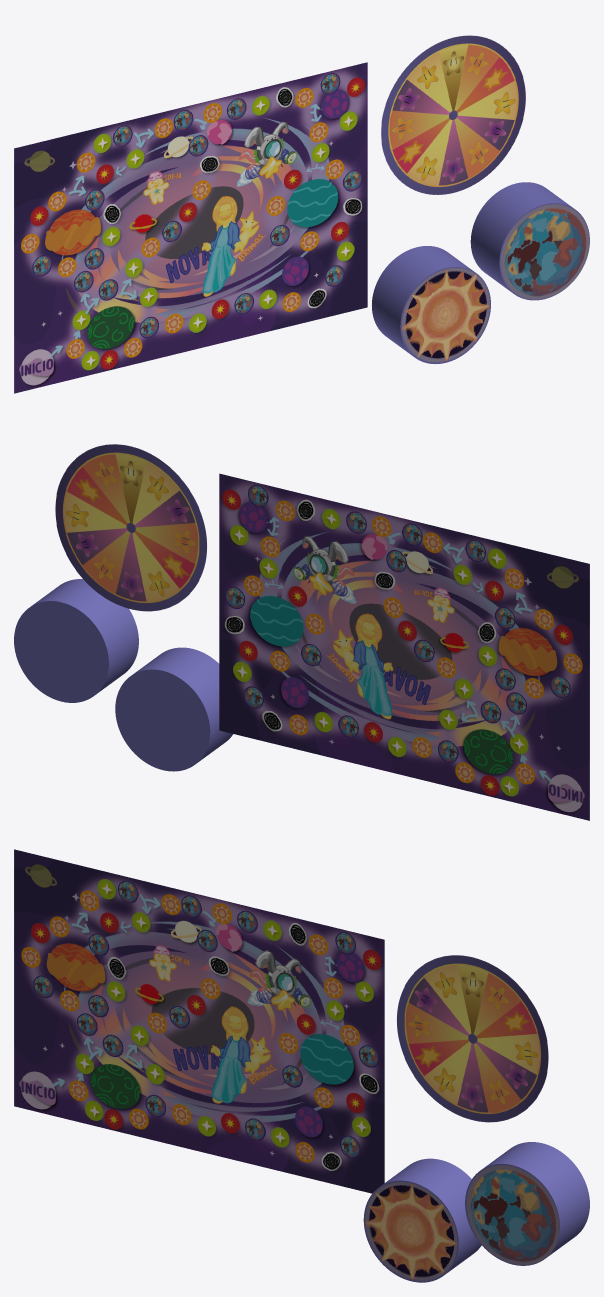
Rendered from juegoMesa.glb.
3 renders of one model, top to bottom at view 1: azimuth 30°, elevation 25°; view 2: azimuth 150°, elevation 25°; view 3: azimuth 330°, elevation 25°, orthographic. The views are drawn at different scales.
Visible parts, largest first — view 1: mesh_id47, mesh_id50, mesh_id41, mesh_id27; view 2: mesh_id47, mesh_id50, mesh_id41, mesh_id27; view 3: mesh_id47, mesh_id50, mesh_id41, mesh_id27.
Boxes of the visible parts, x1,y1,x2,y2 form: mesh_id47: (14,62,367,393); mesh_id50: (381,35,525,194); mesh_id41: (470,182,589,300); mesh_id27: (372,246,490,364); mesh_id47: (219,473,589,820); mesh_id50: (55,444,206,611); mesh_id41: (14,579,138,702); mesh_id27: (115,647,232,771); mesh_id47: (14,849,384,1193); mesh_id50: (397,955,548,1122); mesh_id41: (465,1142,589,1265); mesh_id27: (363,1158,481,1282).
Size of the model in its own units: 1.06 by 0.5618 by 0.0998.
4 materials, 4 textured.
